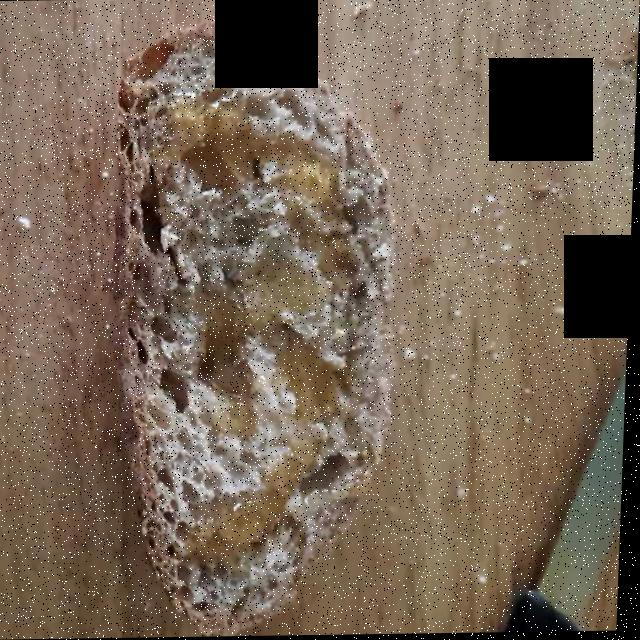bread-half-white: (121, 28, 392, 627)
honey: (173, 86, 362, 565)
